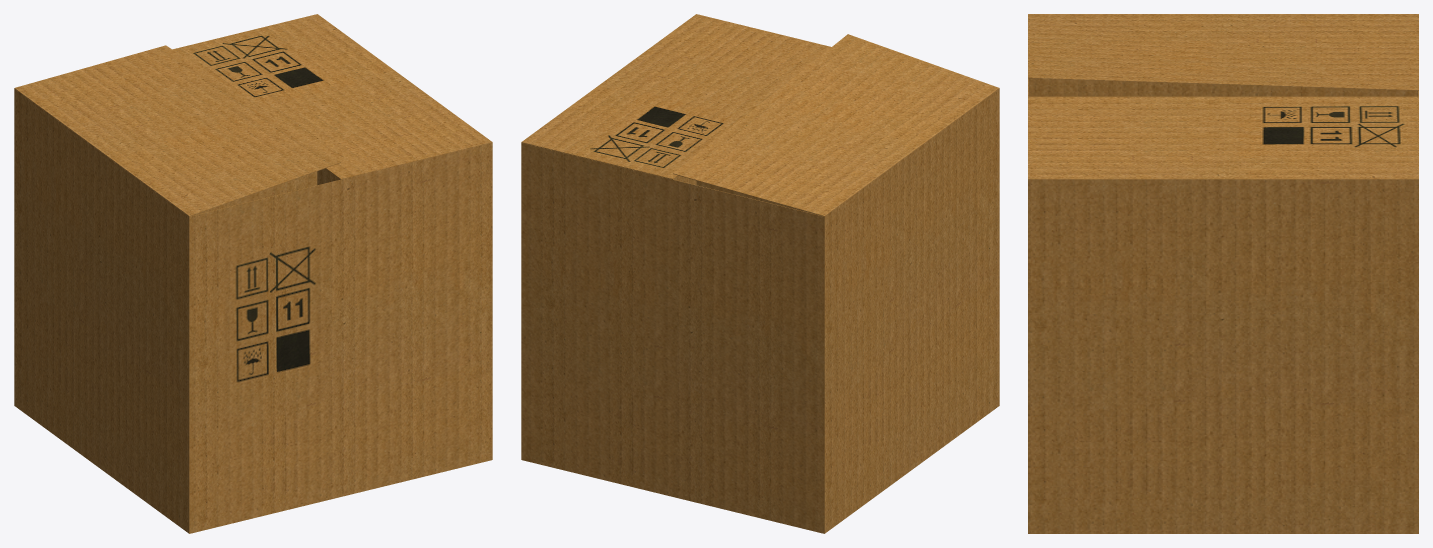
Rendered from kardus.glb.
3 renders of one model, left to right at view 1: azimuth 30°, elevation 25°; view 2: azimuth 150°, elevation 25°; view 3: azimuth 270°, elevation 25°, orthographic. The views are drawn at different scales.
Parts seen in each view (by area): view 1: Cubo; view 2: Cubo; view 3: Cubo.
Boxes of the visible parts, <box> form: Cubo: <box>14,14,492,533</box>; Cubo: <box>521,14,999,533</box>; Cubo: <box>1028,14,1418,533</box>.
Size of the model in its own units: 0.5 by 0.5278 by 0.5.
Materials: 2 (2 with a texture image).
